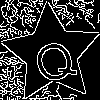Q: (26, 28, 80, 89)
